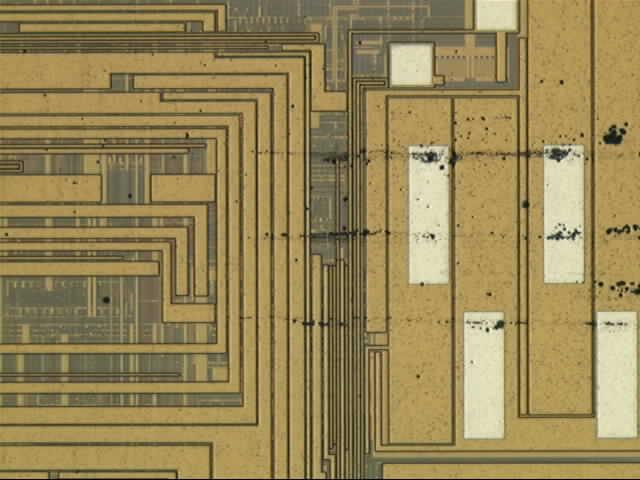SCRATCH: (175, 112, 640, 341)
